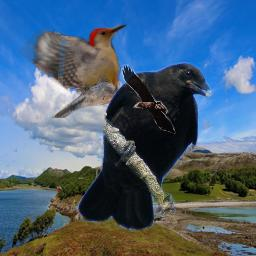Crow: (77, 62, 214, 232), (121, 64, 176, 134)
Woodpecker: (18, 22, 127, 118)
